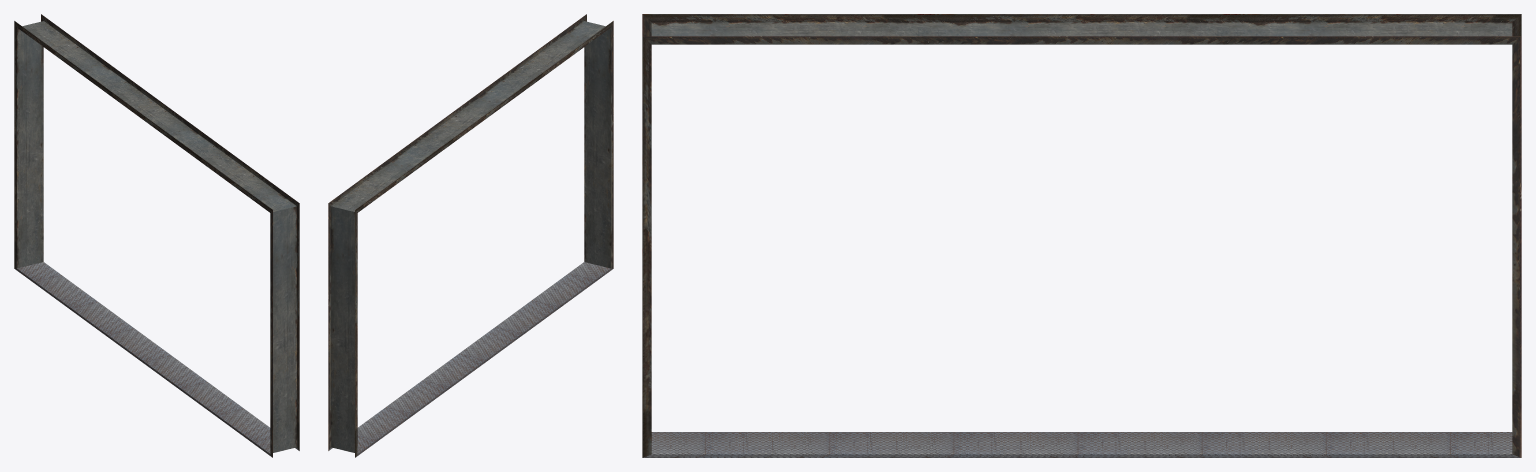
Rendered from DoorFrameOpenB.FBX.
The picture shows the model from 3 angles, left to right: view 1: azimuth 30°, elevation 25°; view 2: azimuth 150°, elevation 25°; view 3: azimuth 270°, elevation 25°; orthographic projection. The views are drawn at different scales.
Parts seen in each view (by area): view 1: DoorFrameOpenB; view 2: DoorFrameOpenB; view 3: DoorFrameOpenB.
Boxes of the visible parts, box(x1,y1,x2,y2) form: DoorFrameOpenB: box(14, 14, 299, 457); DoorFrameOpenB: box(328, 14, 613, 457); DoorFrameOpenB: box(642, 14, 1521, 457).
Size of the model in its own units: 36.83 by 325 by 614.
